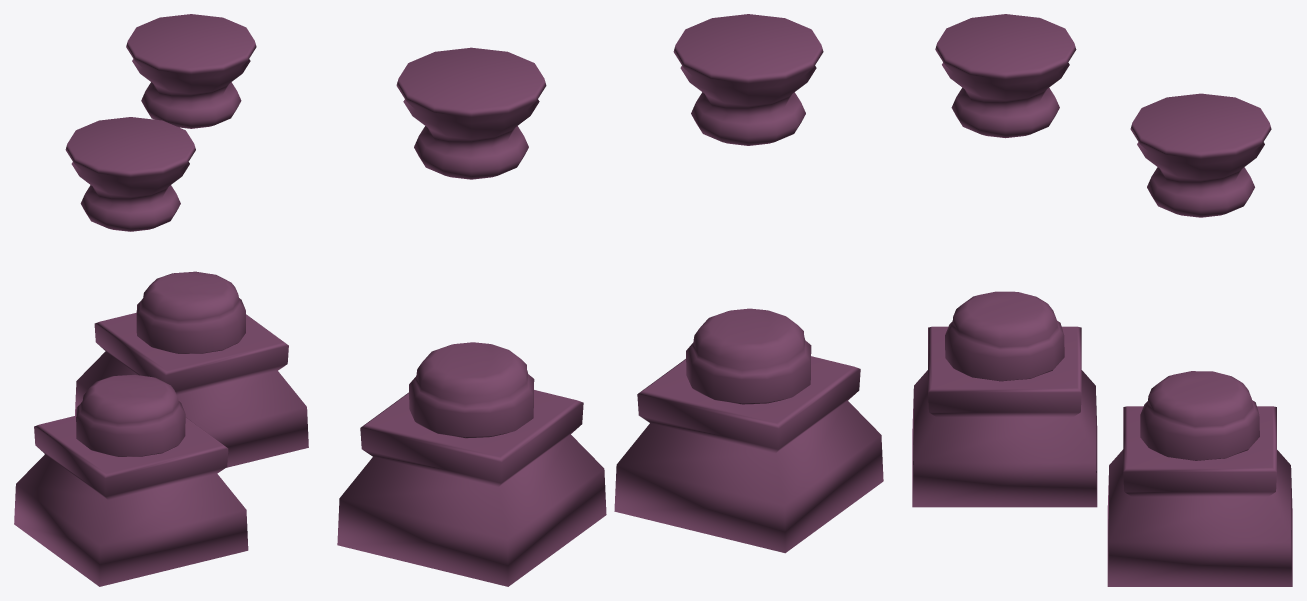
The model's file is Pillar_07B.fbx.
3 renders of one model, left to right at view 1: azimuth 30°, elevation 25°; view 2: azimuth 150°, elevation 25°; view 3: azimuth 270°, elevation 25°, orthographic. The views are drawn at different scales.
Visible parts, largest first — view 1: Pillar_07B; view 2: Pillar_07B; view 3: Pillar_07B.
Boxes of the visible parts, x1,y1,x2,y2 form: Pillar_07B: (14,14,308,586); Pillar_07B: (337,14,883,586); Pillar_07B: (912,14,1292,586).
Size of the model in its own units: 123 by 154 by 125.
